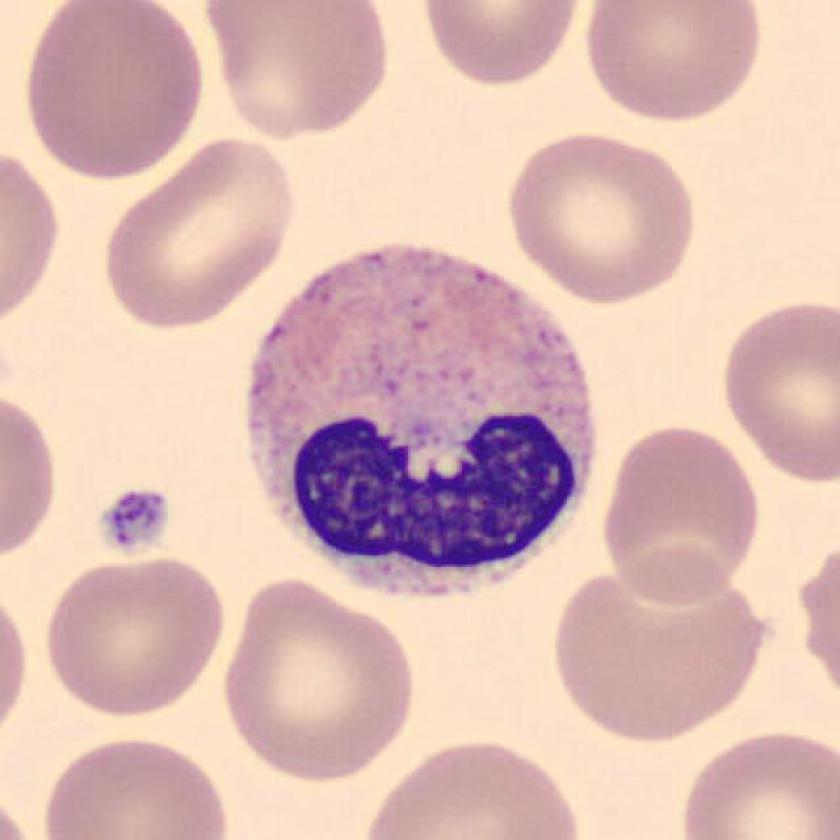neutrophil: (247, 248, 599, 600)
